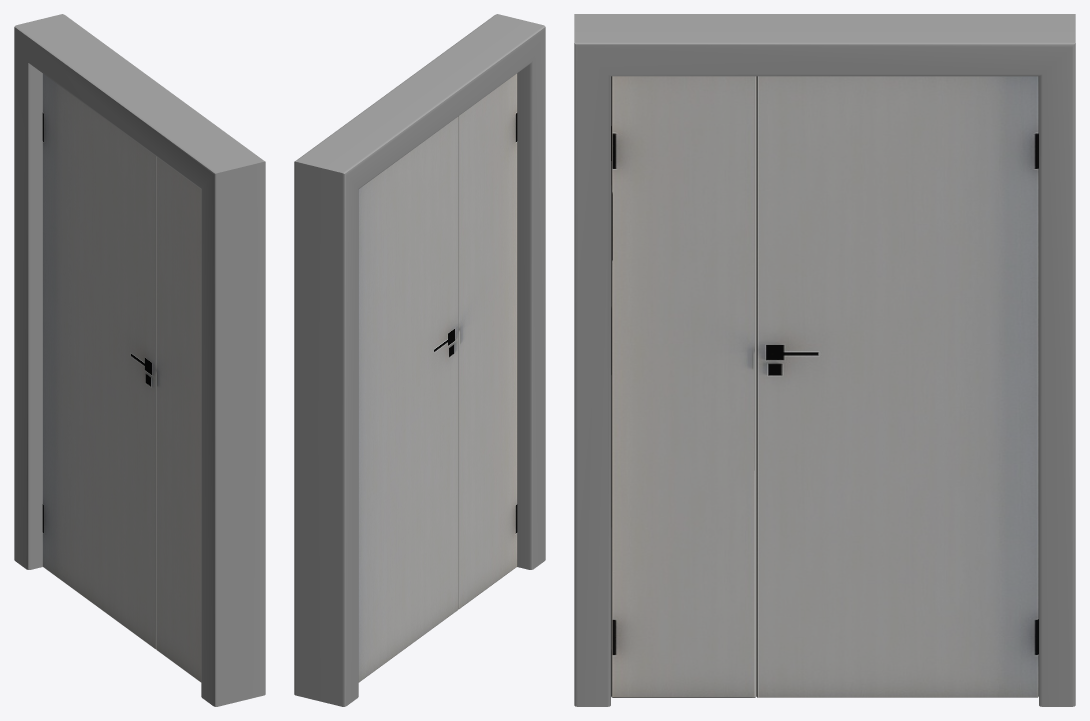
File: Door_Double.fbx
The picture shows the model from 3 angles, left to right: view 1: azimuth 30°, elevation 25°; view 2: azimuth 150°, elevation 25°; view 3: azimuth 270°, elevation 25°; orthographic projection. The views are drawn at different scales.
Parts seen in each view (by area): view 1: polySurface31, Door_1, Door_2; view 2: polySurface31, Door_1, Door_2; view 3: Door_1, Door_2, polySurface31.
Boxes of the visible parts, x1,y1,x2,y2 form: polySurface31: (14, 14, 265, 706); Door_1: (42, 73, 156, 649); Door_2: (156, 156, 201, 682); polySurface31: (294, 14, 545, 706); Door_1: (358, 116, 458, 682); Door_2: (458, 73, 517, 608); Door_1: (756, 76, 1038, 697); Door_2: (611, 76, 756, 697); polySurface31: (574, 14, 1075, 706).
Size of the model in its own units: 21.1 by 208 by 143.
Materials: 2 (1 with a texture image).
